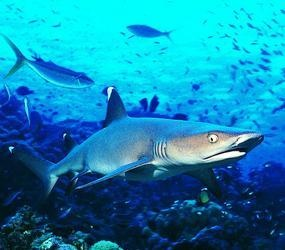fish: (13, 85, 265, 200)
